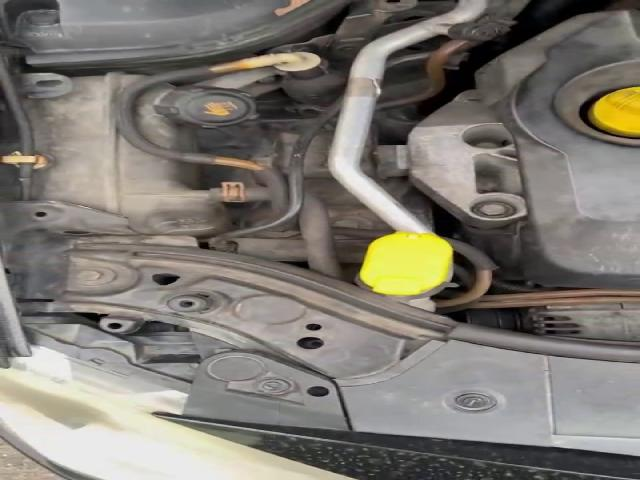antifreeze_tank: (26, 73, 227, 236), (139, 84, 258, 151)
